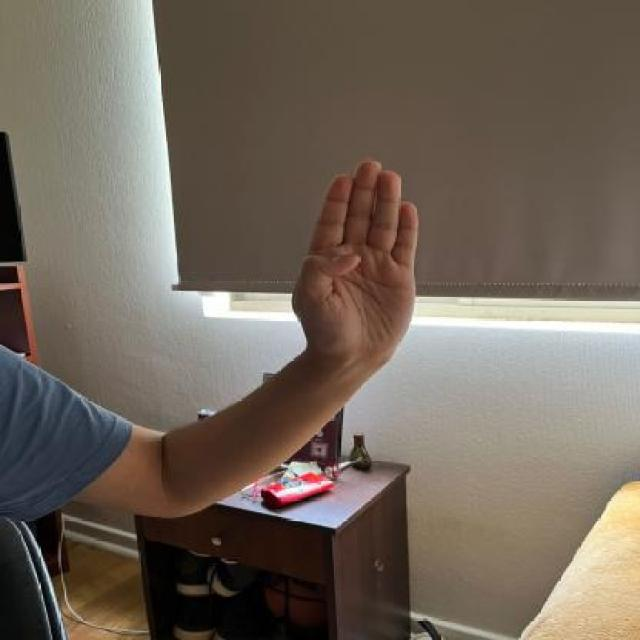B: (289, 154, 422, 361)
